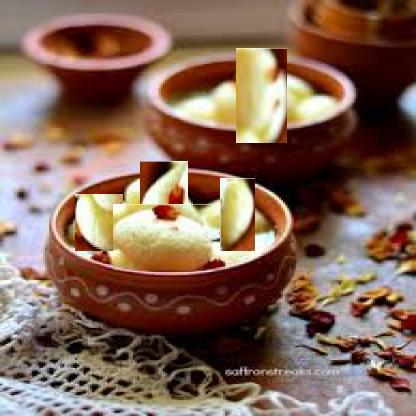rasgulla: (113, 204, 213, 271), (225, 59, 298, 133), (133, 169, 196, 231), (210, 188, 265, 242), (72, 195, 126, 249)
